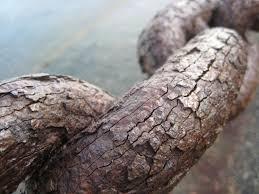rust: (1, 71, 234, 192), (138, 12, 258, 116), (133, 2, 259, 78)
